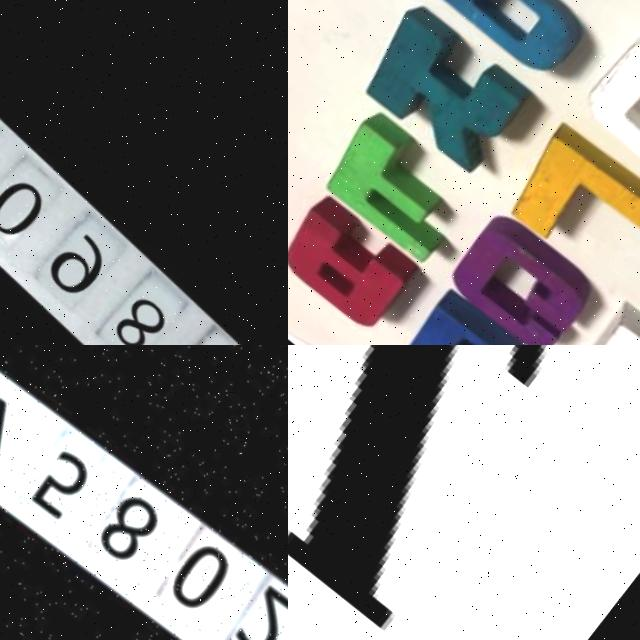0: (155, 520, 243, 617), (0, 149, 62, 258)
2: (221, 564, 288, 640)
5: (15, 430, 101, 526)
7: (0, 375, 38, 481), (153, 315, 251, 345)
8: (80, 470, 174, 574), (92, 266, 185, 345)
9: (25, 205, 128, 317)
A: (288, 188, 429, 339)
B: (398, 281, 551, 345)
F: (319, 115, 476, 265)
G: (446, 205, 611, 345)
K: (356, 0, 539, 177)
L: (288, 345, 640, 640), (501, 111, 640, 292)
P: (422, 0, 618, 77)
Q: (576, 2, 640, 207)
